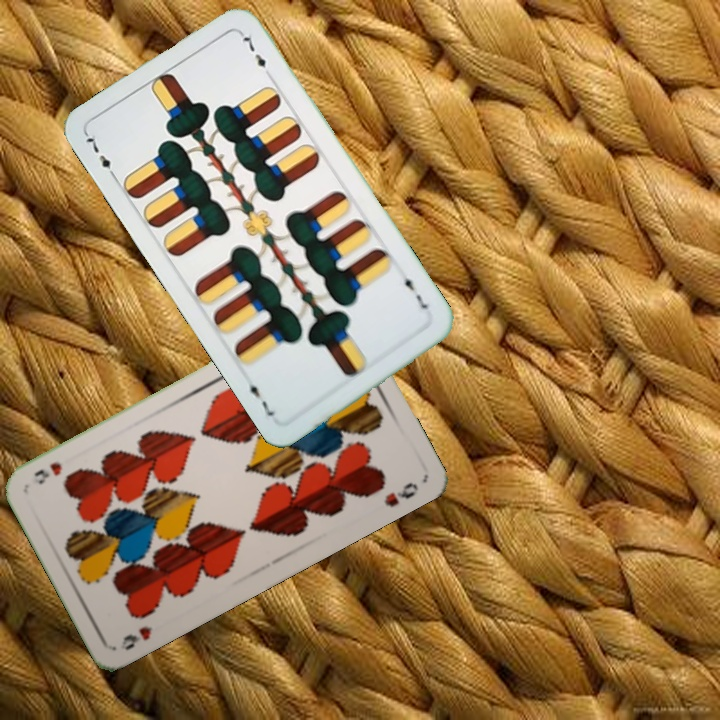E7: (82, 130, 119, 182), (399, 268, 431, 313)
H9: (116, 622, 155, 653)
